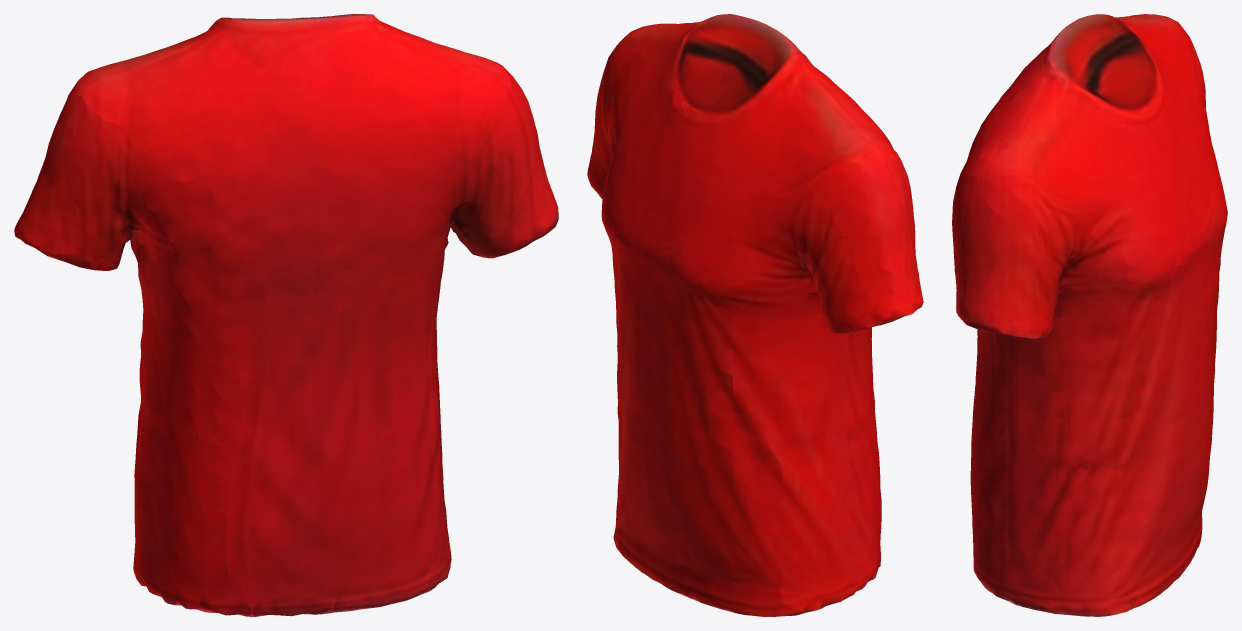
3 renders of one model, left to right at view 1: azimuth 30°, elevation 25°; view 2: azimuth 150°, elevation 25°; view 3: azimuth 270°, elevation 25°, orthographic. The views are drawn at different scales.
Parts seen in each view (by area): view 1: world; view 2: world; view 3: world.
Boxes of the visible parts, x1=… form: world: x1=14, y1=14, x2=558, y2=616; world: x1=587, y1=14, x2=923, y2=616; world: x1=952, y1=14, x2=1227, y2=616.
Bounding box in the file's own units: 0.7316 × 0.9068 × 0.4303.
1 material, 1 textured.
